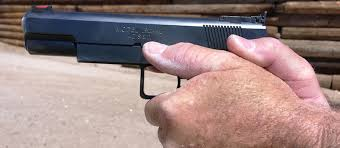gun: (18, 8, 275, 107)
